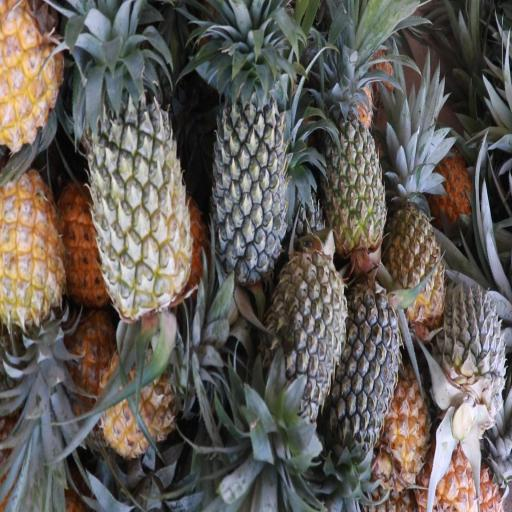------------------------------: (90, 80, 191, 311), (323, 87, 387, 255)
Pineapple - v8 v1: (102, 324, 208, 458), (0, 166, 67, 348), (387, 146, 447, 318), (0, 0, 65, 153), (379, 371, 439, 482)
